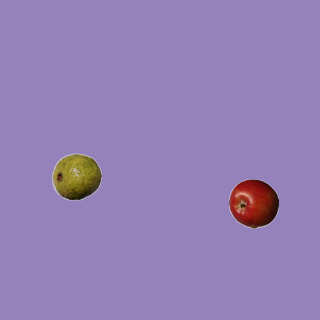Apple Braeburn: (228, 178, 278, 228)
Guava: (51, 151, 101, 201)
